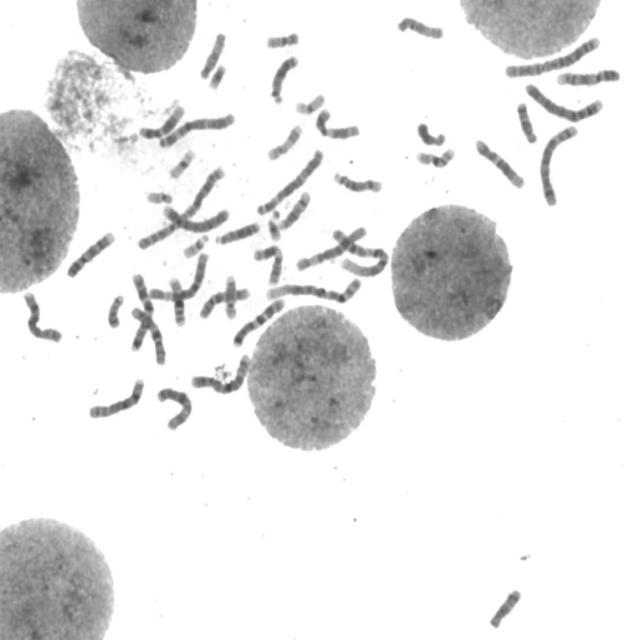A1: (328, 223, 392, 278), (262, 272, 364, 304)
A2: (134, 160, 228, 252), (501, 31, 603, 79)
A3: (252, 144, 326, 216), (155, 107, 238, 149)
B4: (521, 77, 606, 123), (159, 200, 232, 233)
B5: (536, 119, 581, 208), (188, 348, 253, 396)
C10: (127, 301, 168, 367), (197, 282, 253, 320)
C11: (312, 102, 363, 141), (250, 240, 286, 286)
C12: (472, 133, 528, 190), (136, 99, 187, 141)
C6: (292, 220, 370, 272), (144, 246, 212, 303)
C7: (229, 293, 287, 349), (126, 266, 156, 352)
C8: (85, 374, 147, 421), (19, 287, 66, 344)
C9: (64, 226, 117, 280), (554, 63, 624, 88)
D13: (267, 50, 302, 105), (212, 217, 262, 246)
D14: (276, 186, 313, 231), (330, 166, 385, 194)
D15: (196, 27, 228, 81), (394, 10, 447, 41)
E16: (165, 271, 189, 328), (412, 141, 458, 169)
E17: (264, 118, 305, 162), (221, 270, 240, 320)
E18: (486, 583, 524, 629), (514, 97, 540, 144)
F19: (165, 144, 198, 180), (291, 88, 328, 116)
F20: (262, 26, 302, 49), (104, 289, 126, 329)
G21: (205, 58, 229, 91), (264, 205, 284, 243)
G22: (180, 229, 210, 259), (143, 186, 175, 205)
X: (153, 382, 195, 432)
Y: (413, 116, 449, 148)
